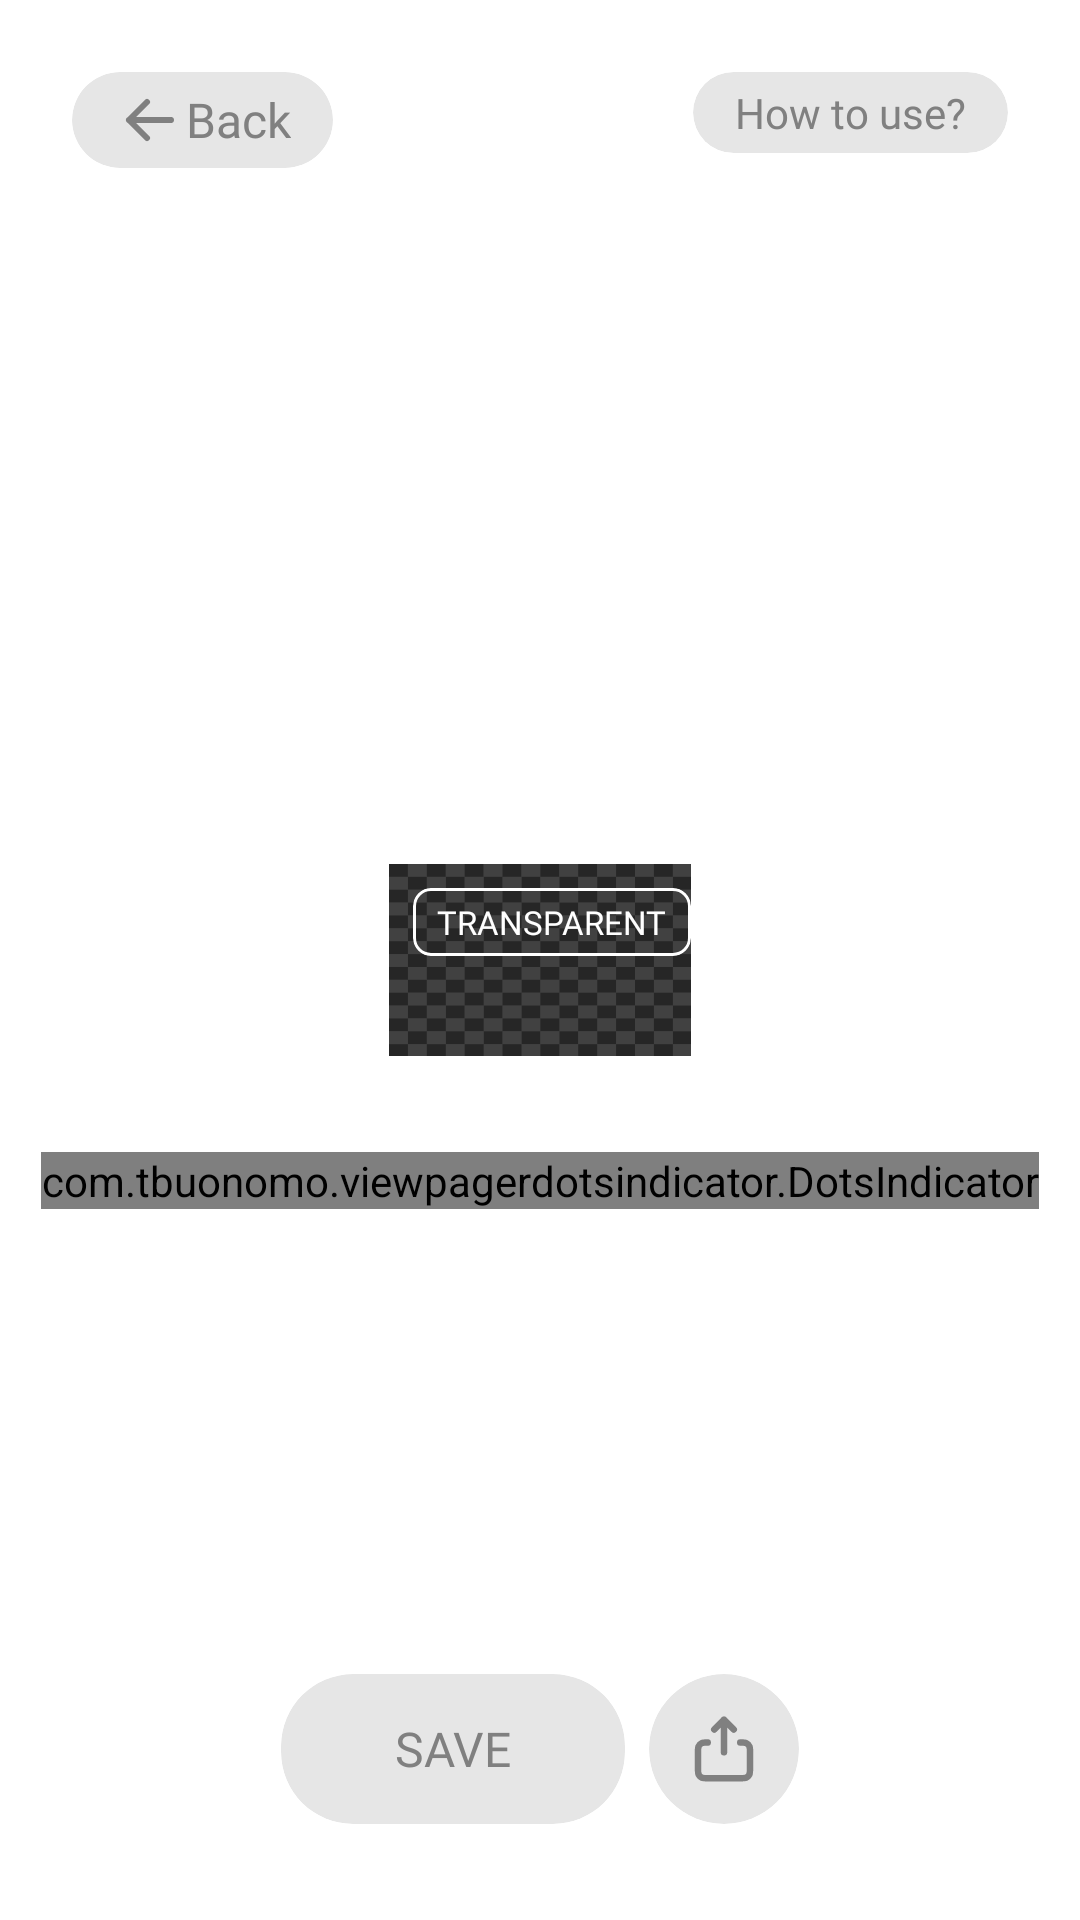

Where to tap for icons on this 1080 × 1920 app screen, as point (x, y):
Export stats: point (724, 1749)
